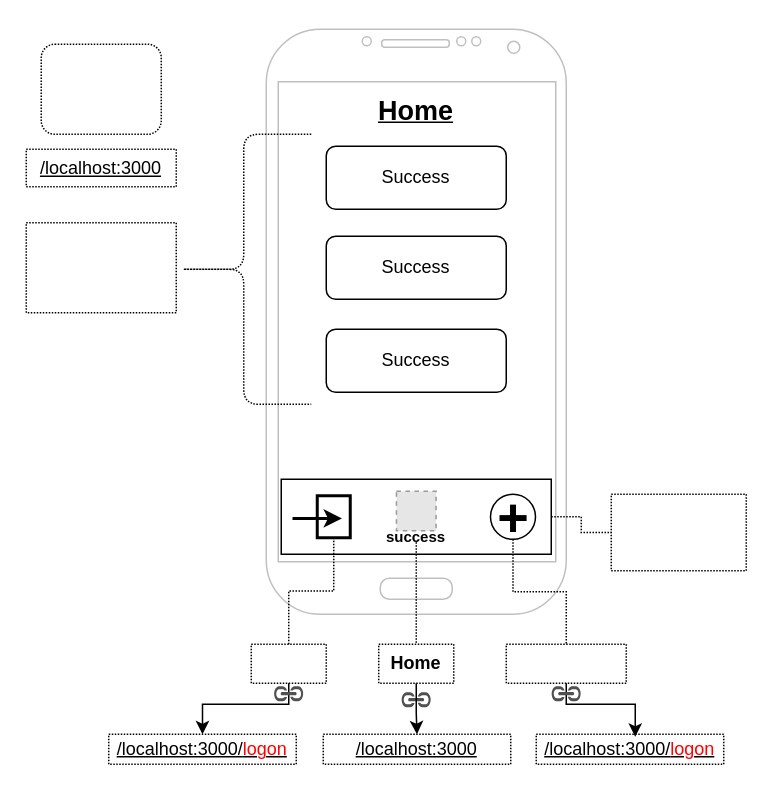
Image size: 773x791. Some labels were removed from this diagram. Grey dashed boxes stand in for pictures. The shapes that lost their labels are listed below. From the top down, each one's box as (x1, y1, x2, y2) in pixels, then its label:
(40, 43, 161, 134): 1 Home
(25, 221, 176, 313): All success are sorted by date
(610, 493, 746, 571): Navbar User not logged in
(250, 643, 326, 683): Logon
(505, 643, 626, 683): Add Success
